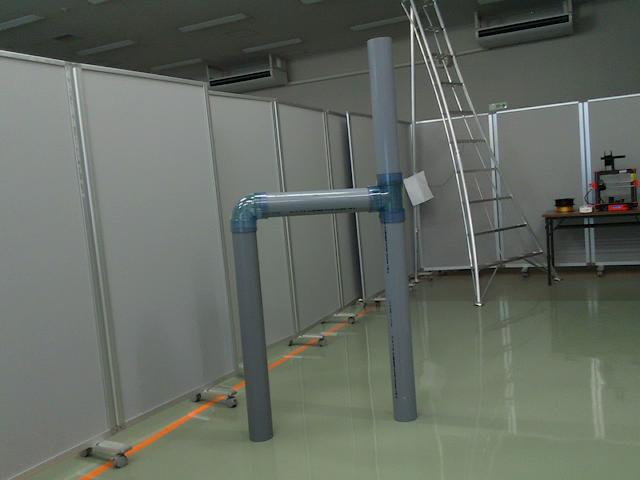bent: (231, 192, 266, 234)
junction: (369, 173, 405, 224)
